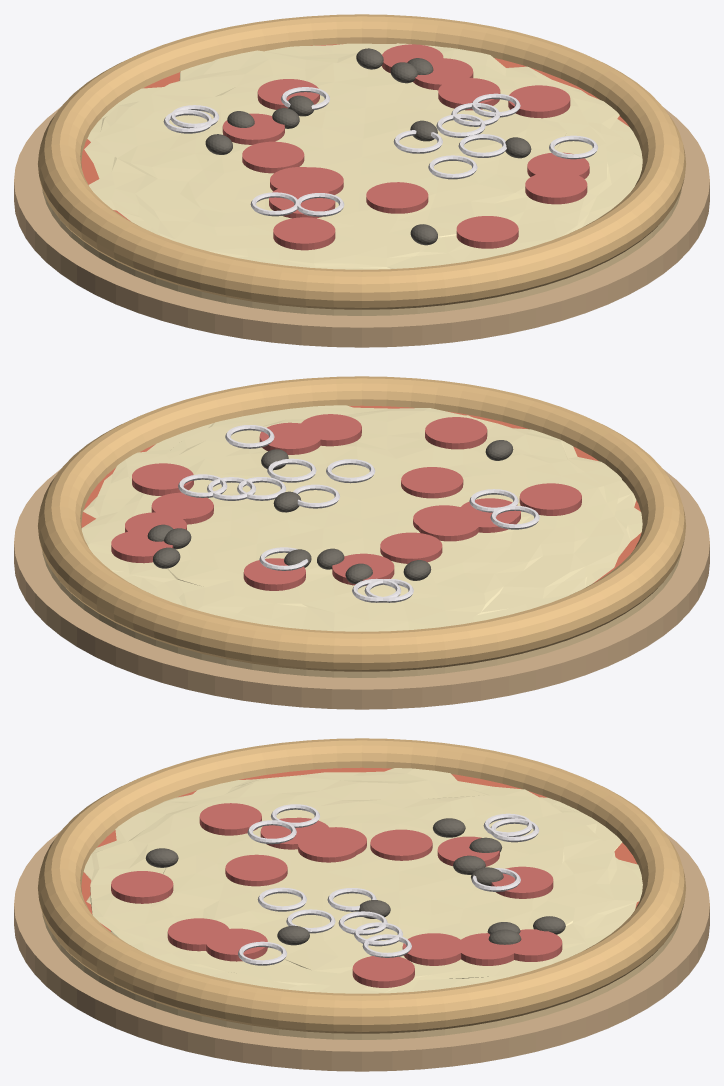
File: pizza.glb
3 views of the same model, one above another, from view 1: azimuth 30°, elevation 25°; view 2: azimuth 150°, elevation 25°; view 3: azimuth 270°, elevation 25° (orthographic).
Visible parts, largest first — view 1: pizza_4, pizza_2, pizza_0, pizza_1, pizza_10, pizza_17, pizza_13, pizza_11, pizza_18, pizza_7, pizza_16, pizza_12 (+17 smaller); view 2: pizza_4, pizza_2, pizza_0, pizza_1, pizza_17, pizza_10, pizza_11, pizza_7, pizza_18, pizza_13, pizza_14, pizza_16 (+17 smaller); view 3: pizza_4, pizza_2, pizza_0, pizza_1, pizza_3, pizza_17, pizza_18, pizza_11, pizza_7, pizza_10, pizza_16, pizza_13 (+19 smaller).
Boxes of the visible parts, <box> form: pizza_4: <box>84,43,642,269</box>; pizza_2: <box>38,14,685,309</box>; pizza_0: <box>14,107,709,347</box>; pizza_1: <box>42,189,681,315</box>; pizza_10: <box>273,217,335,250</box>; pizza_17: <box>456,216,518,248</box>; pizza_13: <box>525,171,587,204</box>; pizza_11: <box>366,182,428,213</box>; pizza_18: <box>508,85,570,118</box>; pizza_7: <box>242,141,304,173</box>; pizza_16: <box>438,78,500,110</box>; pizza_12: <box>222,113,284,144</box>; pizza_4: <box>81,405,642,631</box>; pizza_2: <box>38,376,685,671</box>; pizza_0: <box>14,469,709,709</box>; pizza_1: <box>42,551,681,677</box>; pizza_17: <box>425,417,487,449</box>; pizza_10: <box>519,483,581,515</box>; pizza_11: <box>401,467,463,498</box>; pizza_7: <box>380,532,442,563</box>; pizza_18: <box>132,463,193,495</box>; pizza_13: <box>299,414,361,446</box>; pizza_14: <box>243,558,305,590</box>; pizza_16: <box>151,492,213,524</box>; pizza_4: <box>83,768,642,993</box>; pizza_2: <box>38,738,685,1033</box>; pizza_0: <box>14,831,709,1071</box>; pizza_1: <box>42,913,681,1039</box>; pizza_3: <box>81,767,639,931</box>; pizza_17: <box>111,871,173,903</box>; pizza_18: <box>352,956,414,987</box>; pizza_11: <box>225,854,287,886</box>; pizza_7: <box>370,829,432,860</box>; pizza_10: <box>199,803,261,835</box>; pizza_16: <box>402,933,464,965</box>; pizza_13: <box>167,918,229,951</box>.
Size of the model in its own units: 0.38 by 0.034 by 0.38.
